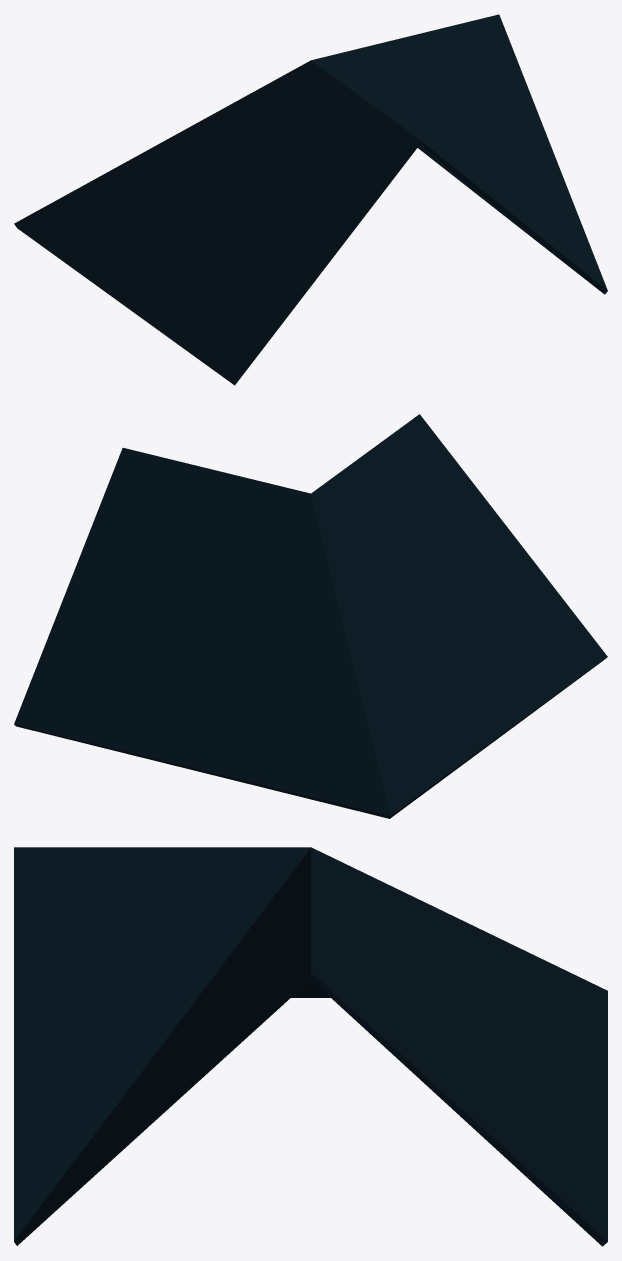
File: RoofLowCorner.fbx
3 renders of one model, top to bottom at view 1: azimuth 30°, elevation 25°; view 2: azimuth 150°, elevation 25°; view 3: azimuth 270°, elevation 25°, orthographic. The views are drawn at different scales.
Visible parts, largest first — view 1: RoofLowCorner; view 2: RoofLowCorner; view 3: RoofLowCorner.
Part boxes in pixels (box(x1,y1,x2,y2)): RoofLowCorner: box(14, 14, 607, 385); RoofLowCorner: box(14, 414, 607, 818); RoofLowCorner: box(14, 847, 607, 1246).
Bounding box in the file's own units: 620 × 317 × 620.
